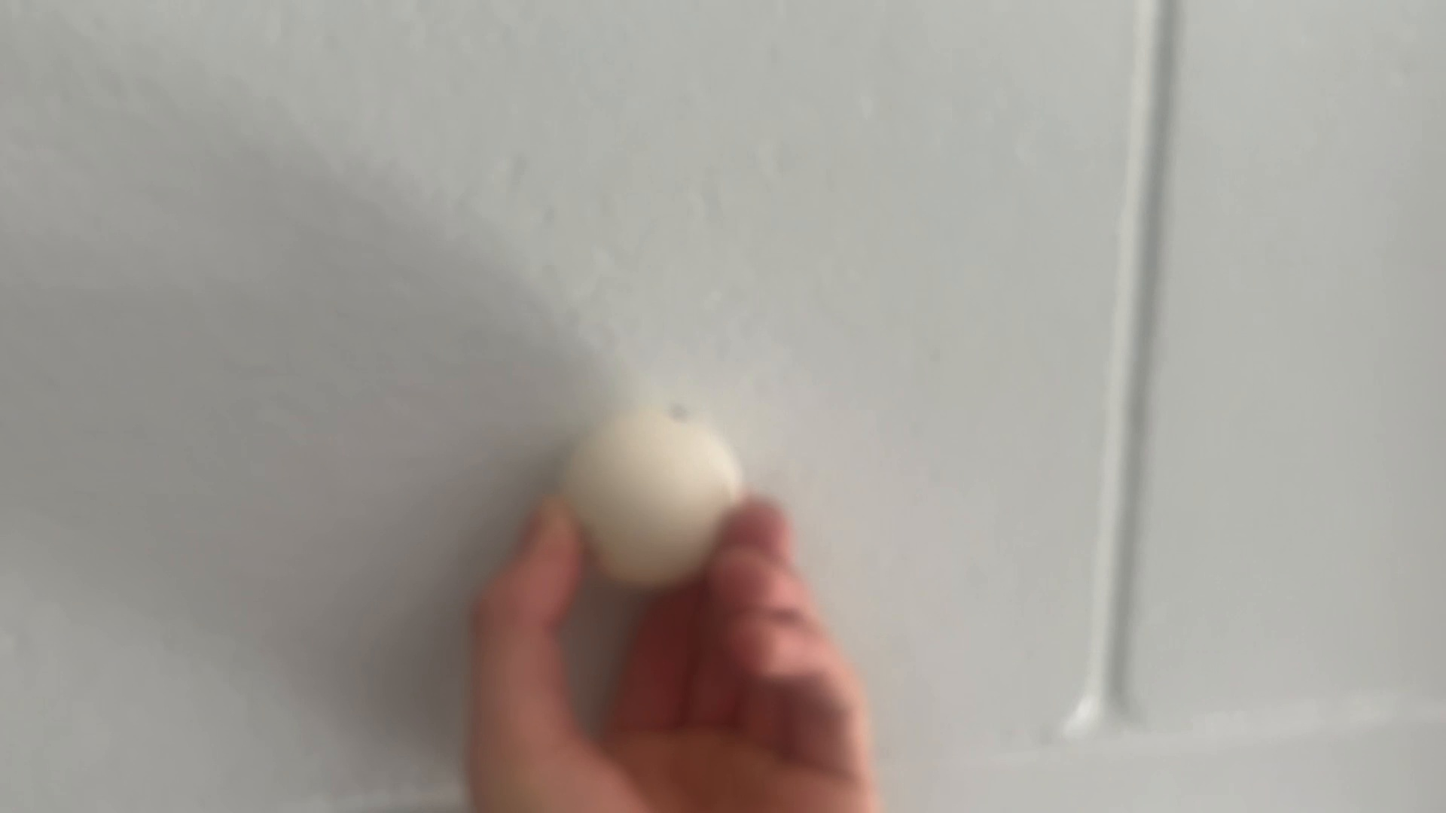Ball: (552, 383, 785, 614)
